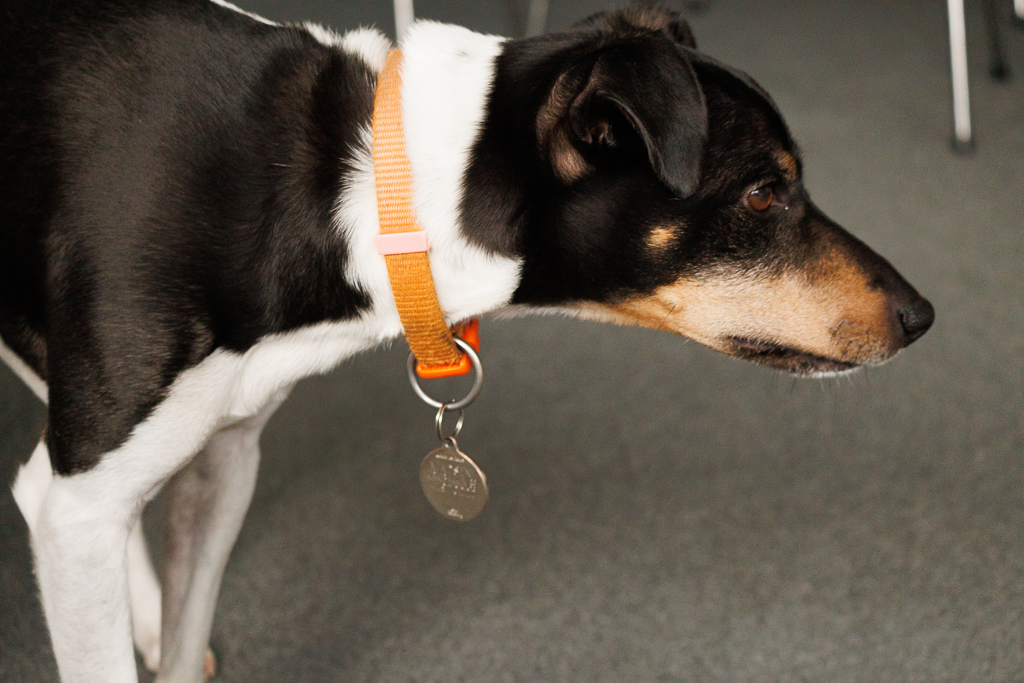Dog: (0, 0, 950, 683)
